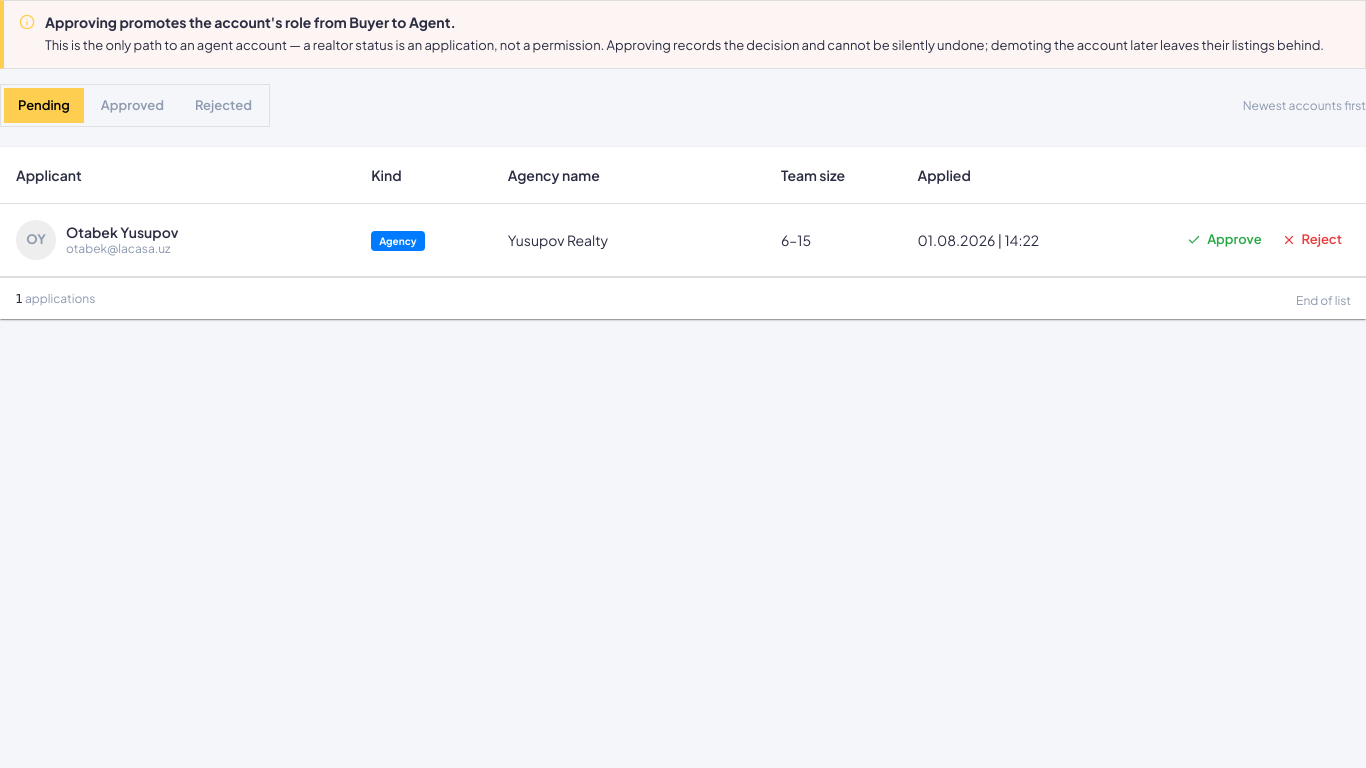
Scenario: ApplicationsScreen — another admin got there first › closes the dialog and explains the 409 plainly rather than raising a failure
The image size is (1366, 768).
Click the button with aria-label "Approve Otabek Yusupov".
click(1224, 240)  # box [1179,224,1270,255]
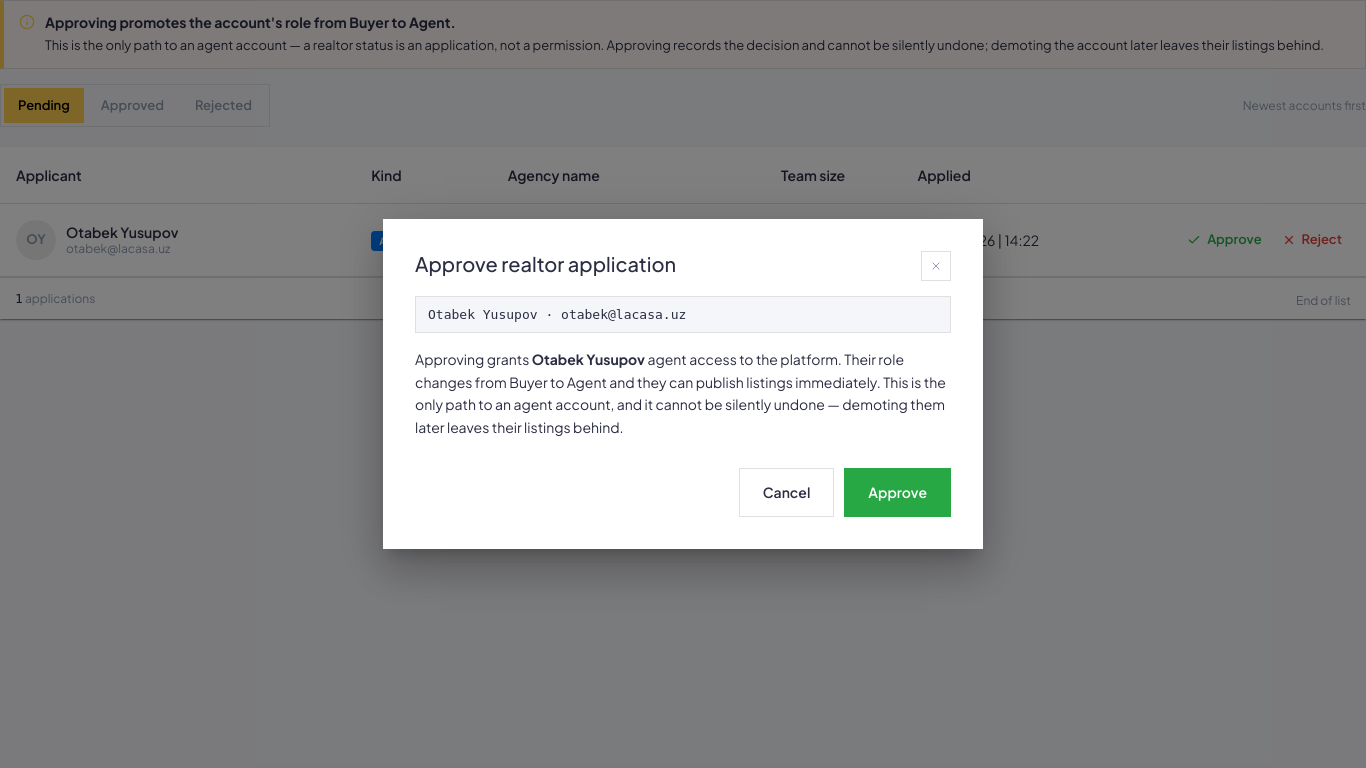
Click the button "Approve".
click(898, 492)  # box [844,468,951,516]
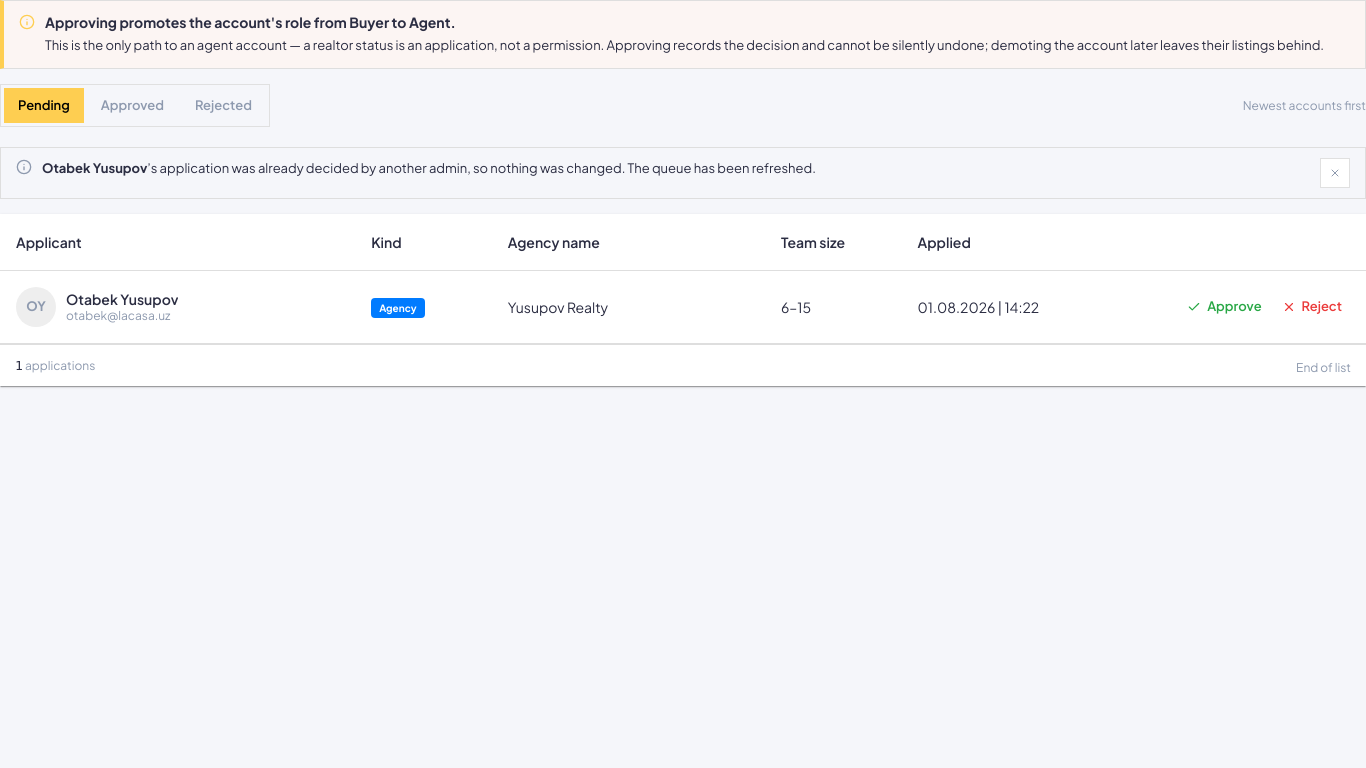
Now the dialog is gone
Now the text "was already decided by another admin" shows "Otabek Yusupov", box [42,160,147,176]
Now the text "was already decided by another admin" shows "nothing was changed", box [147,160,816,176]
